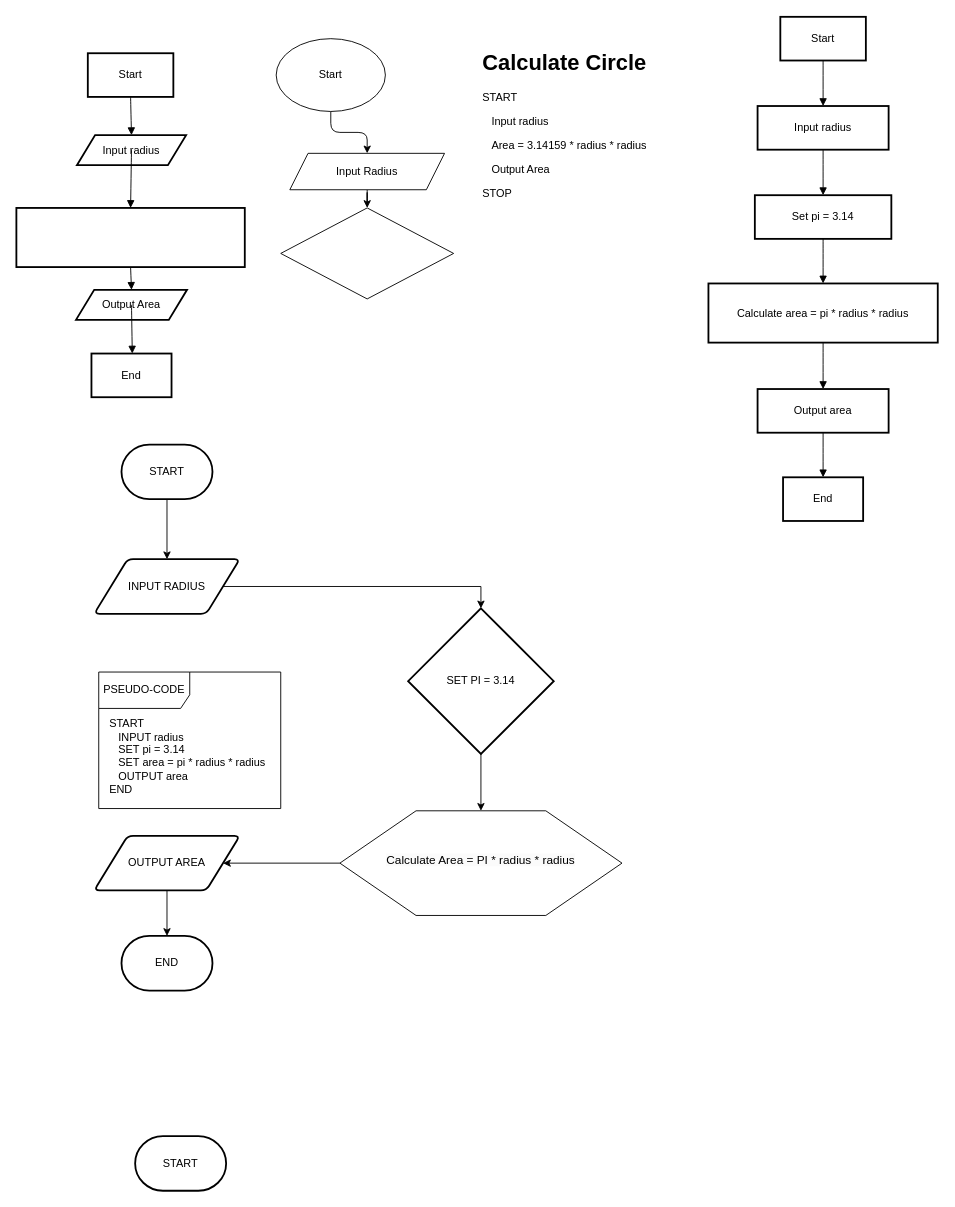
Some shapes in this 955 by 1207 pixel diagram are drawn without their labels. The shapes that lost their labels are listed below. From the top down, each one's centre as x and y in pixels, then its label:
At [130,237]: "Calculate Area = 3.14159 * radius * radius".
At [367,253]: "Calculate 3.14159 * radius * radius".
